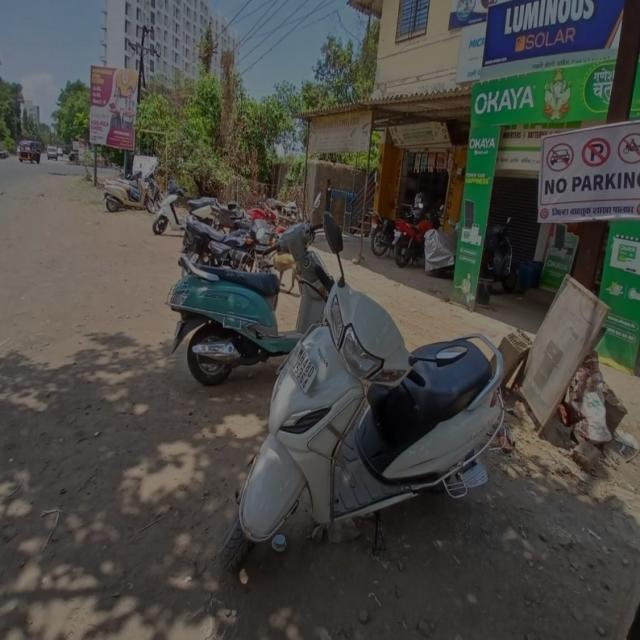illegalparking: (153, 116, 640, 611)
